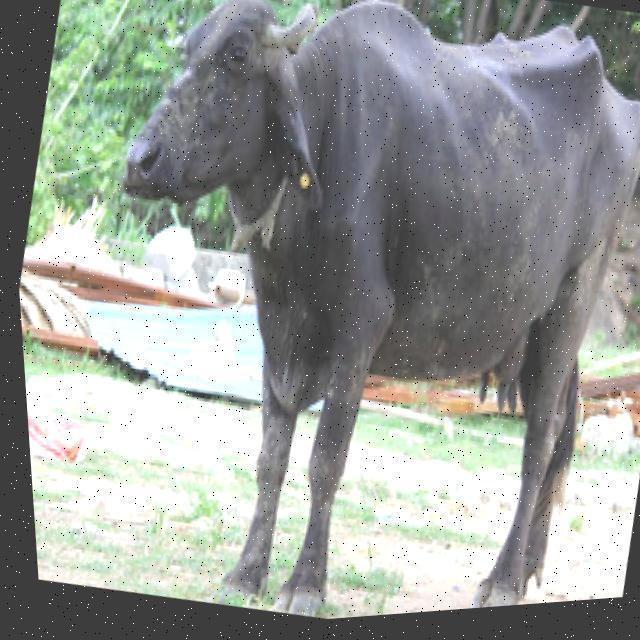Buffalo: (20, 0, 640, 639)
